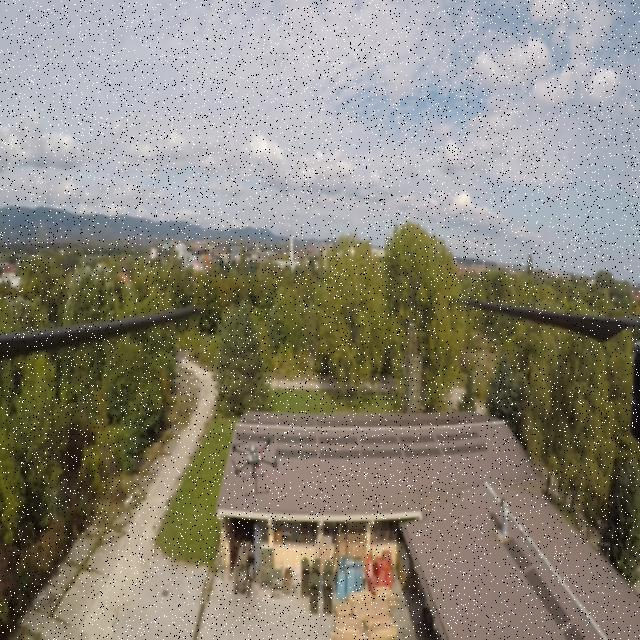UAV: (226, 430, 282, 500)
